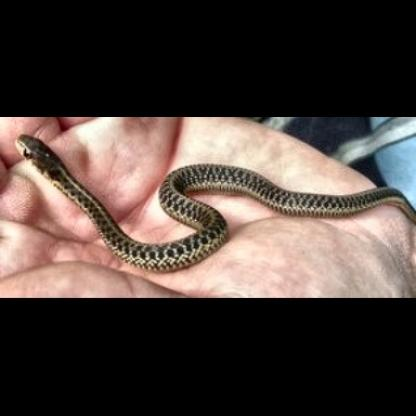Snake: (17, 132, 414, 274)
